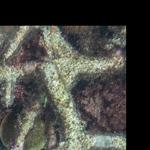dead: (2, 27, 123, 147)
